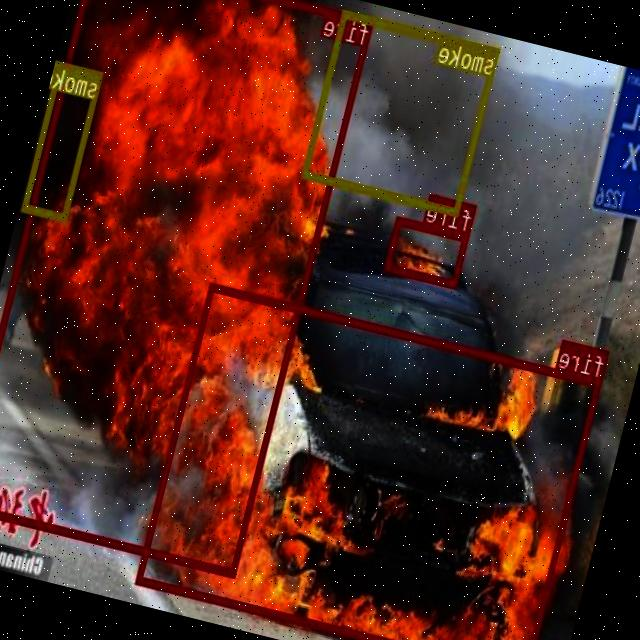fire: (0, 0, 375, 577), (137, 281, 602, 640), (384, 215, 470, 288)
smoke: (302, 8, 500, 215), (22, 60, 104, 222)
